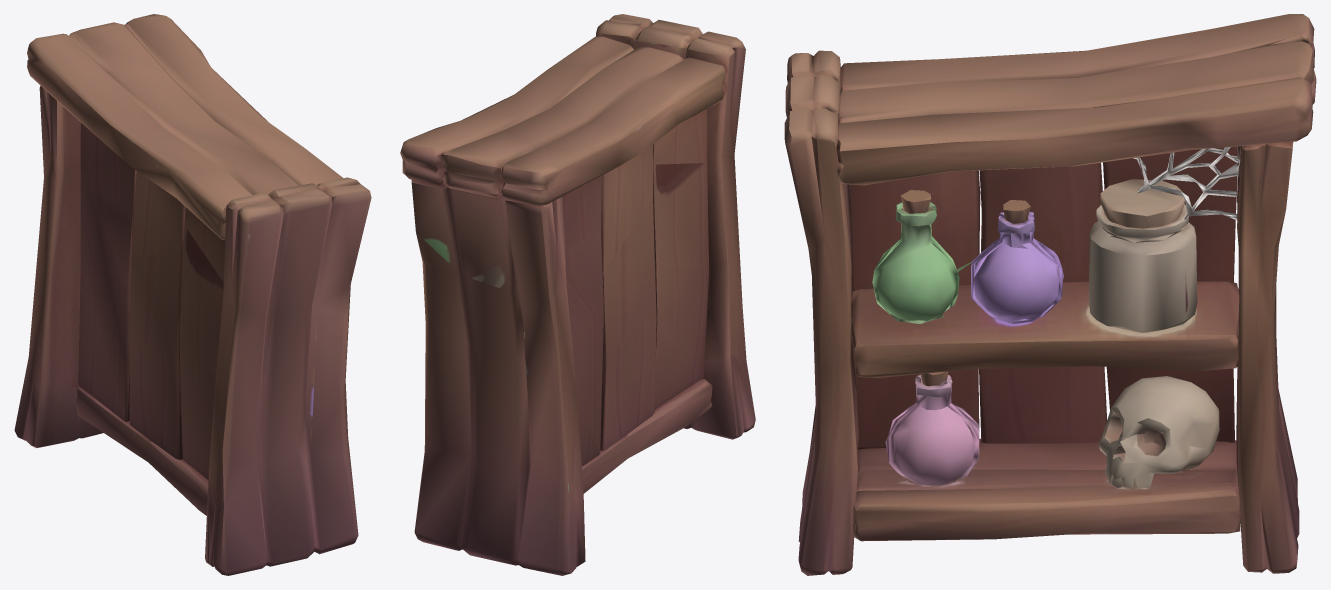
The model's file is H8_PotionShelf_LOD2.fbx.
The picture shows the model from 3 angles, left to right: view 1: azimuth 30°, elevation 25°; view 2: azimuth 150°, elevation 25°; view 3: azimuth 270°, elevation 25°; orthographic projection. The views are drawn at different scales.
Parts seen in each view (by area): view 1: H8_PotionShelf_LOD2; view 2: H8_PotionShelf_LOD2; view 3: H8_PotionShelf_LOD2.
Part boxes in pixels (x1,y1,x2,y2): H8_PotionShelf_LOD2: (14, 14, 371, 575); H8_PotionShelf_LOD2: (400, 14, 755, 575); H8_PotionShelf_LOD2: (784, 14, 1316, 575).
Bounding box in the file's own units: 0.6314 × 1.5 × 1.47.
